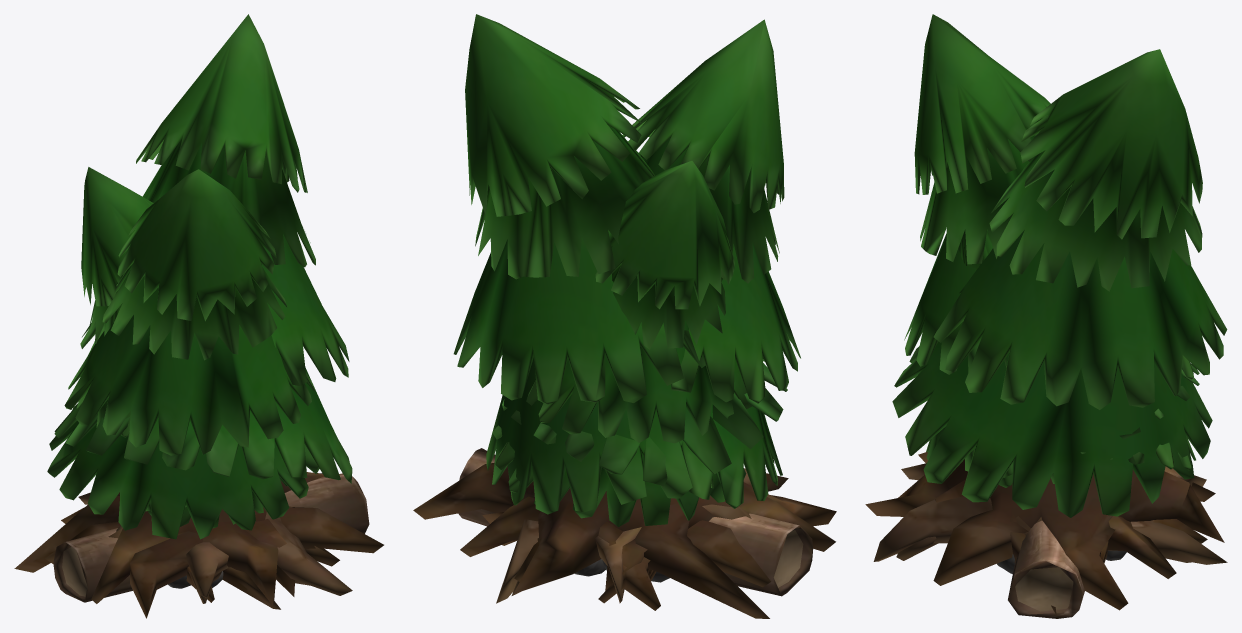
Rendered from camp.glb.
3 renders of one model, left to right at view 1: azimuth 30°, elevation 25°; view 2: azimuth 150°, elevation 25°; view 3: azimuth 270°, elevation 25°, orthographic. The views are drawn at different scales.
Visible parts, largest first — view 1: tree4, tree0, tree8, log2, stump3, tree11; view 2: tree0, tree4, tree8, log2, stump3; view 3: tree0, tree4, stump3, log2, tree8, tree11, stump1.
Part boxes in pixels (x1=…): tree4: x1=45, y1=169, x2=319, y2=618; tree0: x1=14, y1=14, x2=383, y2=605; tree8: x1=61, y1=167, x2=339, y2=609; log2: x1=53, y1=473, x2=369, y2=602; stump3: x1=78, y1=492, x2=352, y2=598; tree11: x1=148, y1=477, x2=287, y2=602; tree0: x1=413, y1=14, x2=835, y2=618; tree4: x1=460, y1=19, x2=836, y2=603; tree8: x1=482, y1=161, x2=752, y2=610; log2: x1=458, y1=448, x2=813, y2=596; stump3: x1=496, y1=468, x2=788, y2=603; tree0: x1=865, y1=49, x2=1227, y2=610; tree4: x1=904, y1=14, x2=1215, y2=615; stump3: x1=873, y1=463, x2=1227, y2=564; log2: x1=1008, y1=520, x2=1084, y2=618; tree8: x1=1100, y1=355, x2=1207, y2=563; tree11: x1=958, y1=229, x2=1054, y2=487; stump1: x1=896, y1=536, x2=1191, y2=562.
Bounding box in the file's own units: 0.0596 × 0.0881 × 0.0534.
6 materials, 6 textured.
